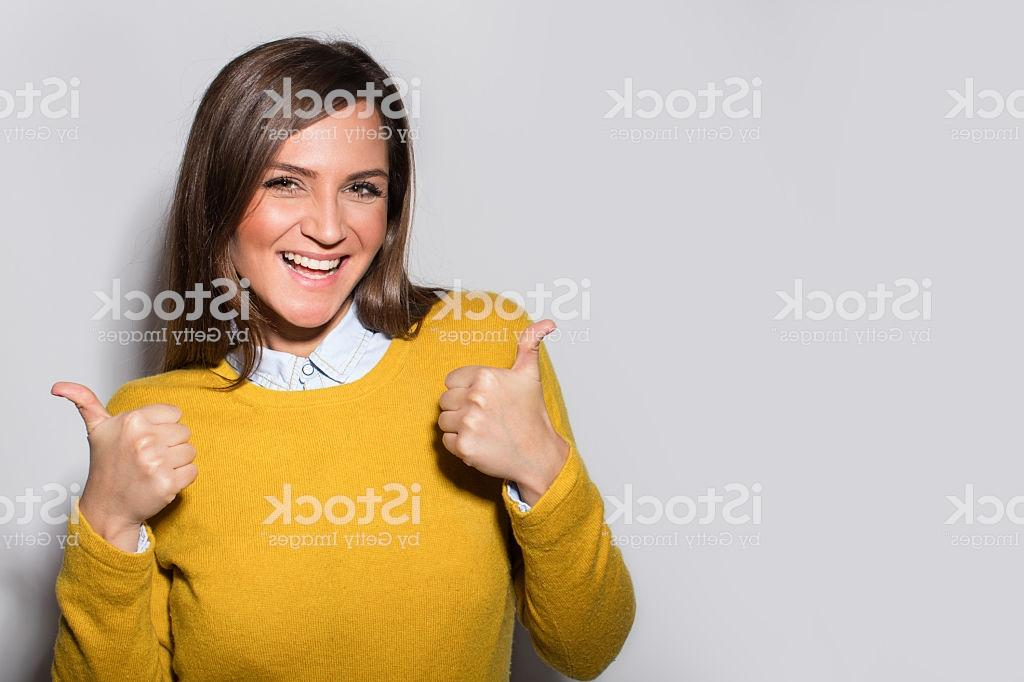thumbsup: (48, 379, 200, 518), (432, 316, 560, 473)
